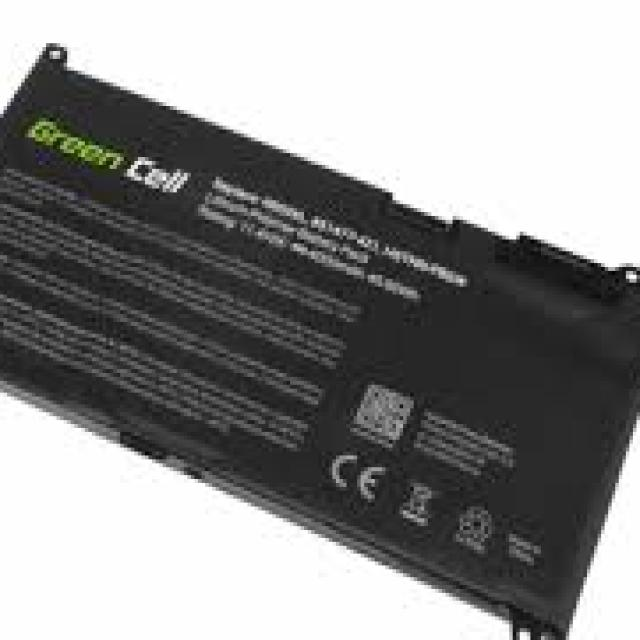organic: (5, 46, 632, 627)
